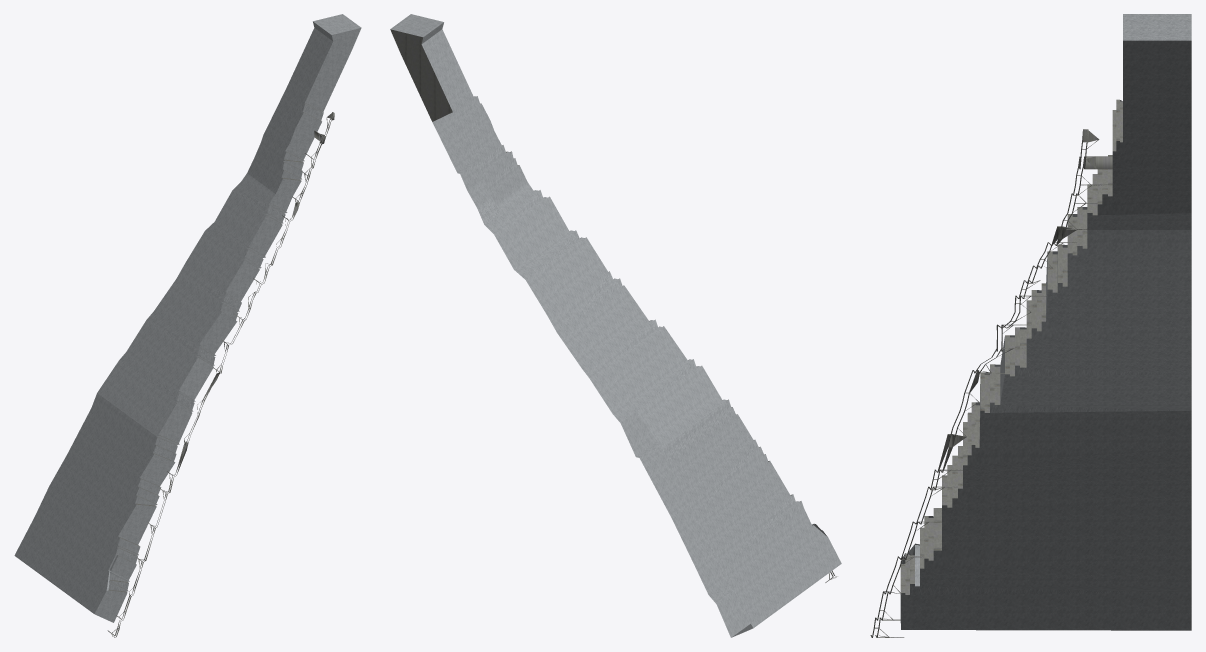
Rendered from Lyhike_jalg_trepp-origo.obj.
The picture shows the model from 3 angles, left to right: view 1: azimuth 30°, elevation 25°; view 2: azimuth 150°, elevation 25°; view 3: azimuth 270°, elevation 25°; orthographic projection. The views are drawn at different scales.
Visible parts, largest first — view 1: Lyhike_jalg_trepp; view 2: Lyhike_jalg_trepp; view 3: Lyhike_jalg_trepp.
Part boxes in pixels (x1,y1,x2,y2): Lyhike_jalg_trepp: (14,14,361,637); Lyhike_jalg_trepp: (390,14,841,637); Lyhike_jalg_trepp: (870,14,1191,637).
Bounding box in the file's own units: 25.31 × 35.5 × 11.8.
Materials: 2 (2 with a texture image).
